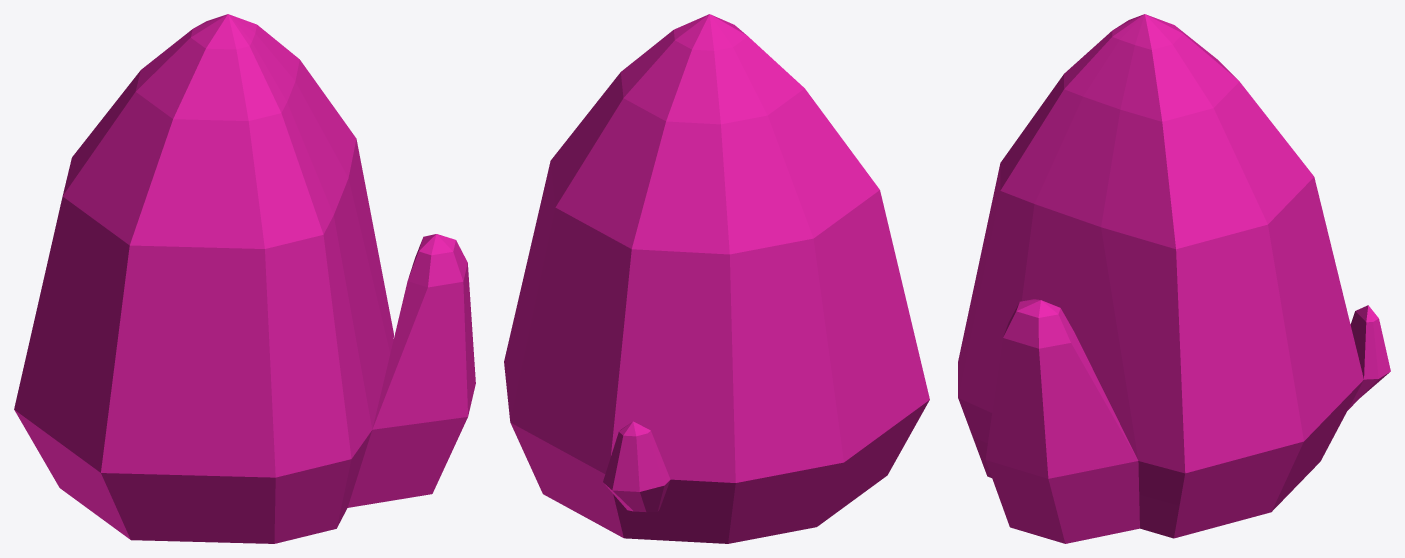
Rendered from Crystal_smallfbx.fbx.
3 renders of one model, left to right at view 1: azimuth 30°, elevation 25°; view 2: azimuth 150°, elevation 25°; view 3: azimuth 270°, elevation 25°, orthographic. The views are drawn at different scales.
Parts seen in each view (by area): view 1: Crystal small; view 2: Crystal small; view 3: Crystal small.
Boxes of the visible parts, <box> form: Crystal small: <box>14,14,475,543</box>; Crystal small: <box>504,14,929,543</box>; Crystal small: <box>958,14,1390,543</box>.
Bounding box in the file's own units: 49.03 × 58.05 × 50.69.
